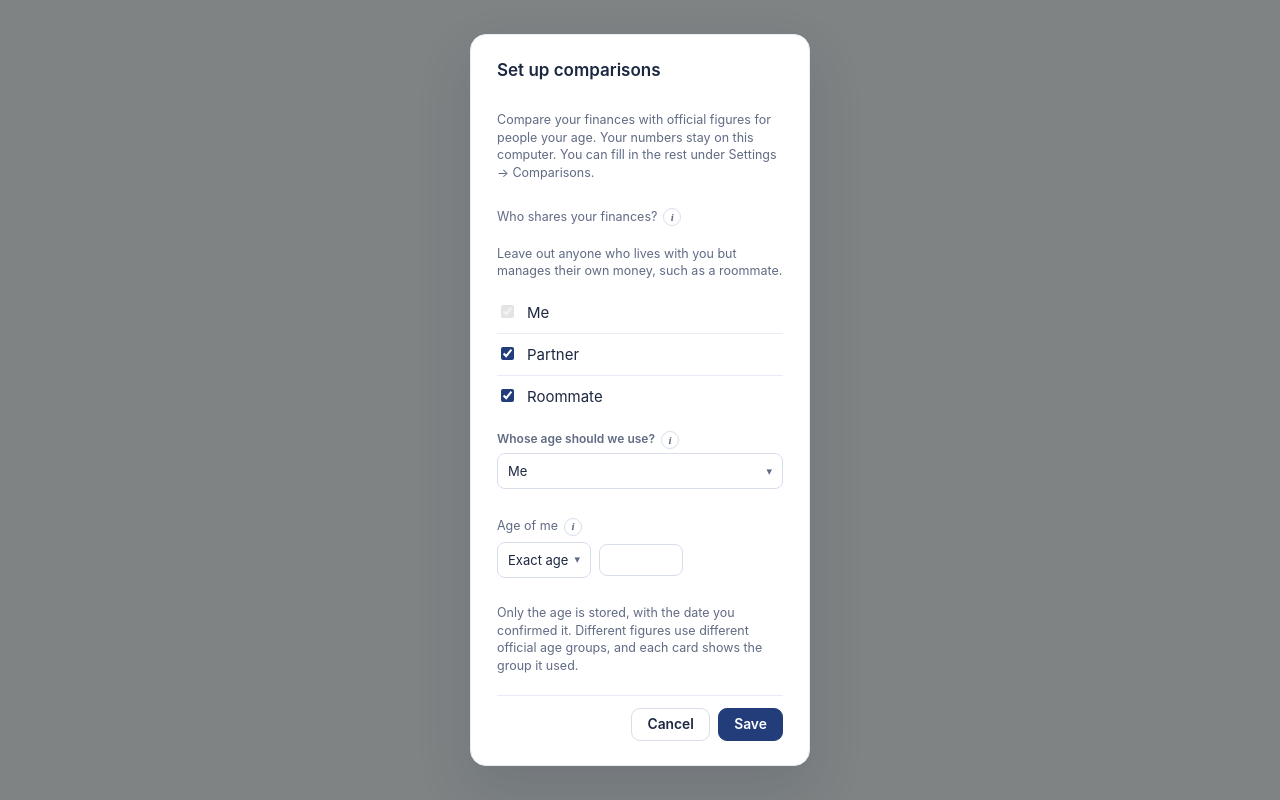
ComparisonSetupDialog › asks for an age before it will save, and says why
Click the button "Save".
click(750, 724)  # box [718,708,783,741]
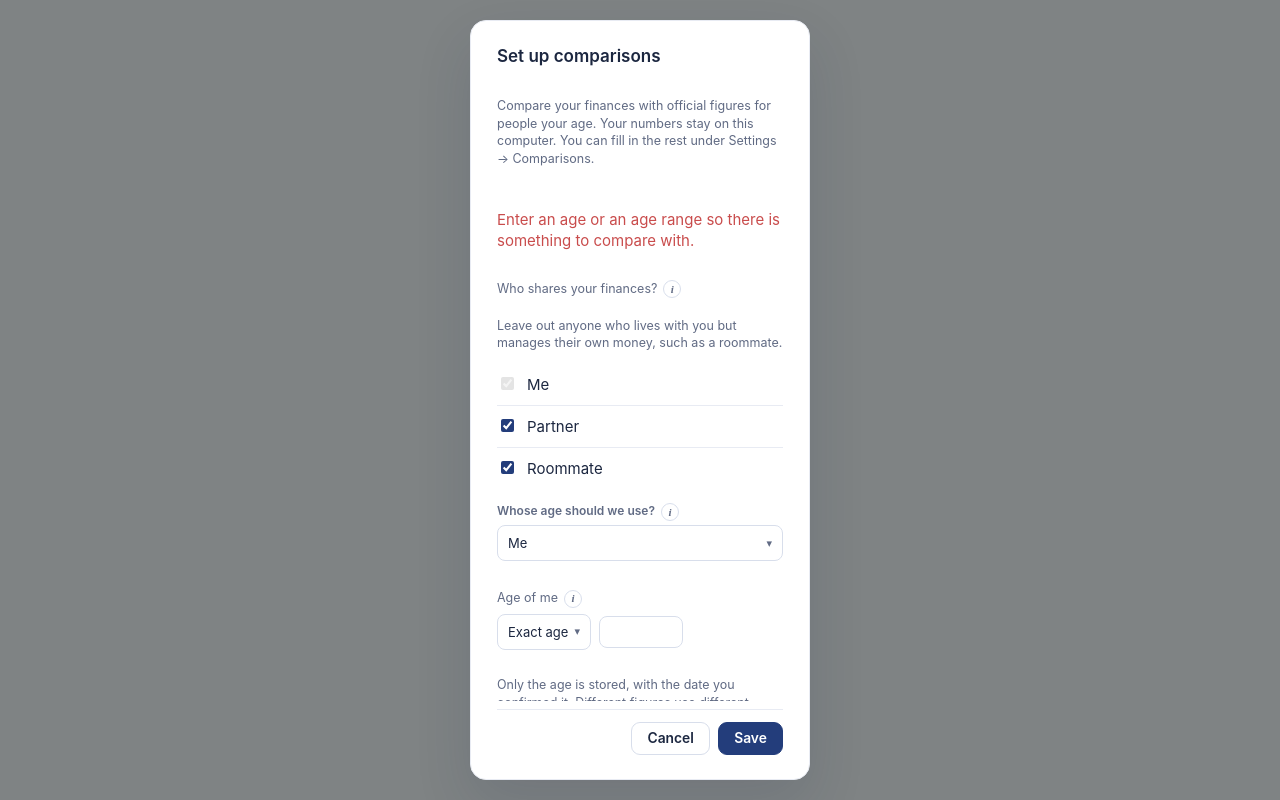
Now the message "Enter an age or an age range so there is something to compare with." is shown, box [497,209,783,251]
